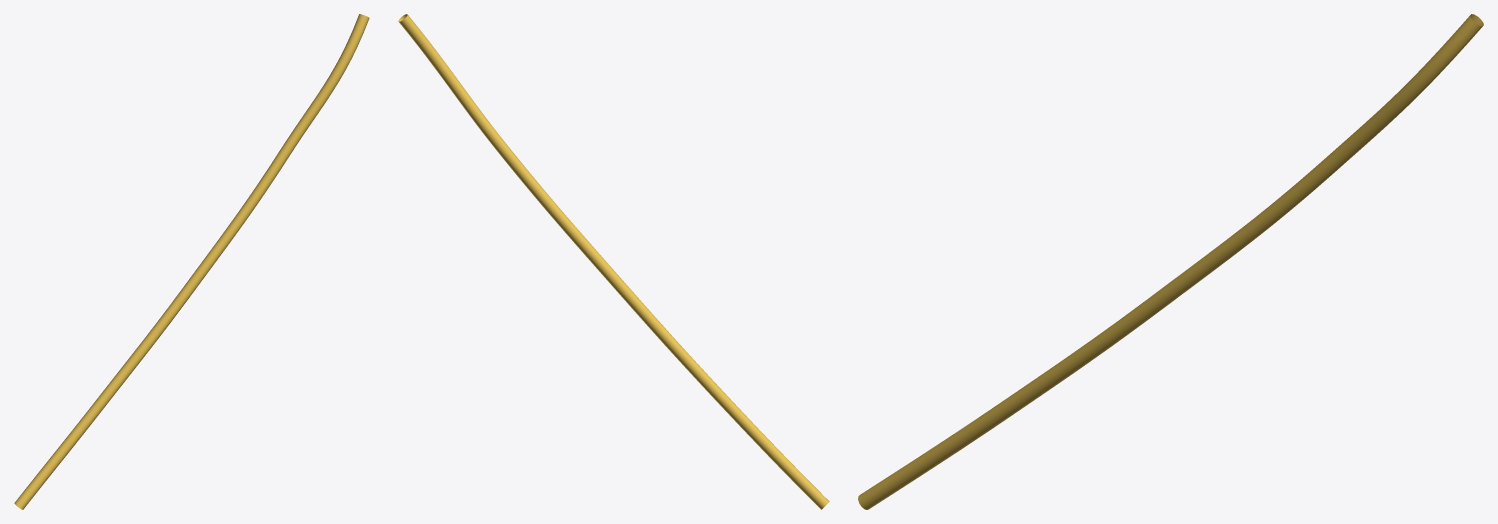
The model's file is Medial_cord_brachial_plexus_right.glb.
3 renders of one model, left to right at view 1: azimuth 30°, elevation 25°; view 2: azimuth 150°, elevation 25°; view 3: azimuth 330°, elevation 25°, orthographic. The views are drawn at different scales.
Parts seen in each view (by area): view 1: Medial_cord_of_brachial_plexus.r_BezierCurve.511; view 2: Medial_cord_of_brachial_plexus.r_BezierCurve.511; view 3: Medial_cord_of_brachial_plexus.r_BezierCurve.511.
Boxes of the visible parts, x1=… form: Medial_cord_of_brachial_plexus.r_BezierCurve.511: x1=14, y1=14, x2=369, y2=509; Medial_cord_of_brachial_plexus.r_BezierCurve.511: x1=398, y1=14, x2=829, y2=509; Medial_cord_of_brachial_plexus.r_BezierCurve.511: x1=858, y1=14, x2=1483, y2=509.
Size of the model in its own units: 0.0391 by 0.0386 by 0.00532.
